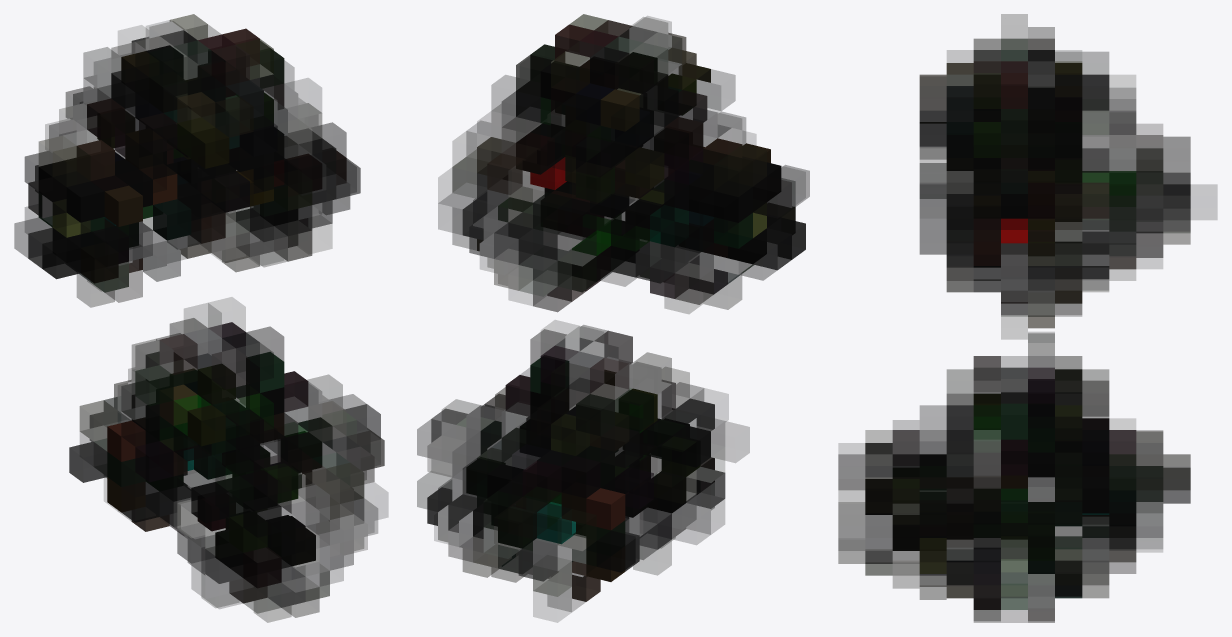
File: iter_5.obj
3 views of the same model, side by side, from view 1: azimuth 30°, elevation 25°; view 2: azimuth 150°, elevation 25°; view 3: azimuth 270°, elevation 25° (orthographic). The views are drawn at different scales.
Visible parts, largest first — view 1: iter_5; view 2: iter_5; view 3: iter_5.
Part boxes in pixels (box(x1,y1,x2,y2)): iter_5: box(14, 14, 387, 622); iter_5: box(417, 14, 809, 622); iter_5: box(838, 14, 1216, 622).
Bounding box in the file's own units: 1.4 × 2.2 × 1.4.
